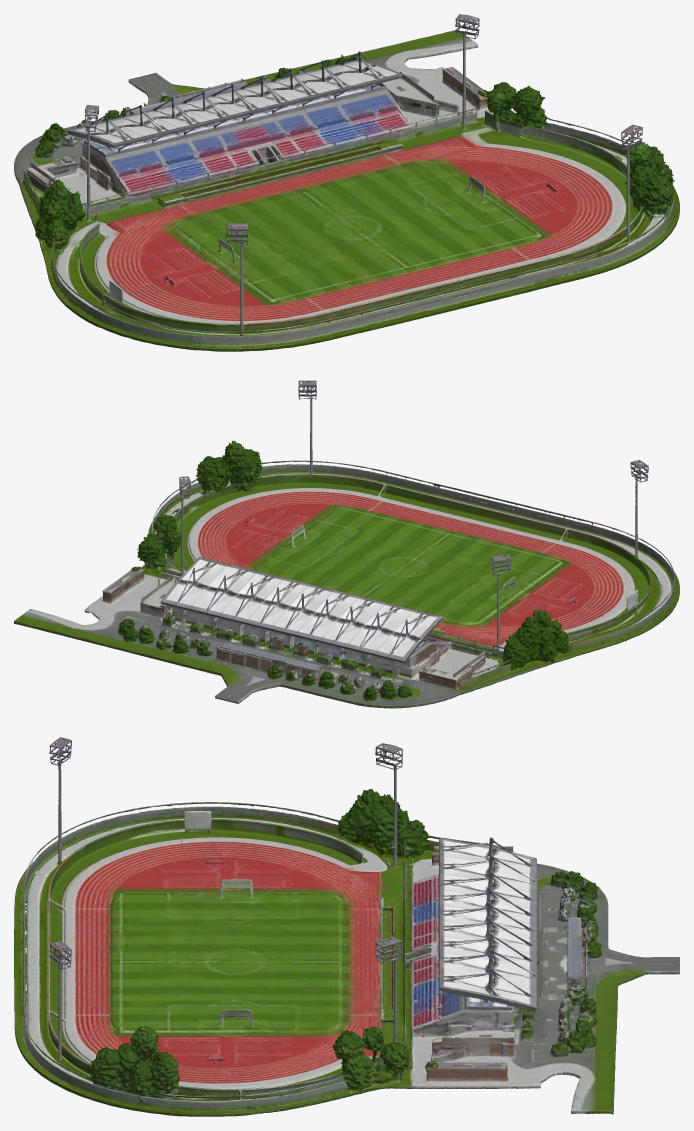
3 renders of one model, top to bottom at view 1: azimuth 30°, elevation 25°; view 2: azimuth 150°, elevation 25°; view 3: azimuth 270°, elevation 25°, orthographic. The views are drawn at different scales.
Size of the model in its own units: 1.89 by 0.3634 by 1.78.
Materials: 1 (1 with a texture image).
